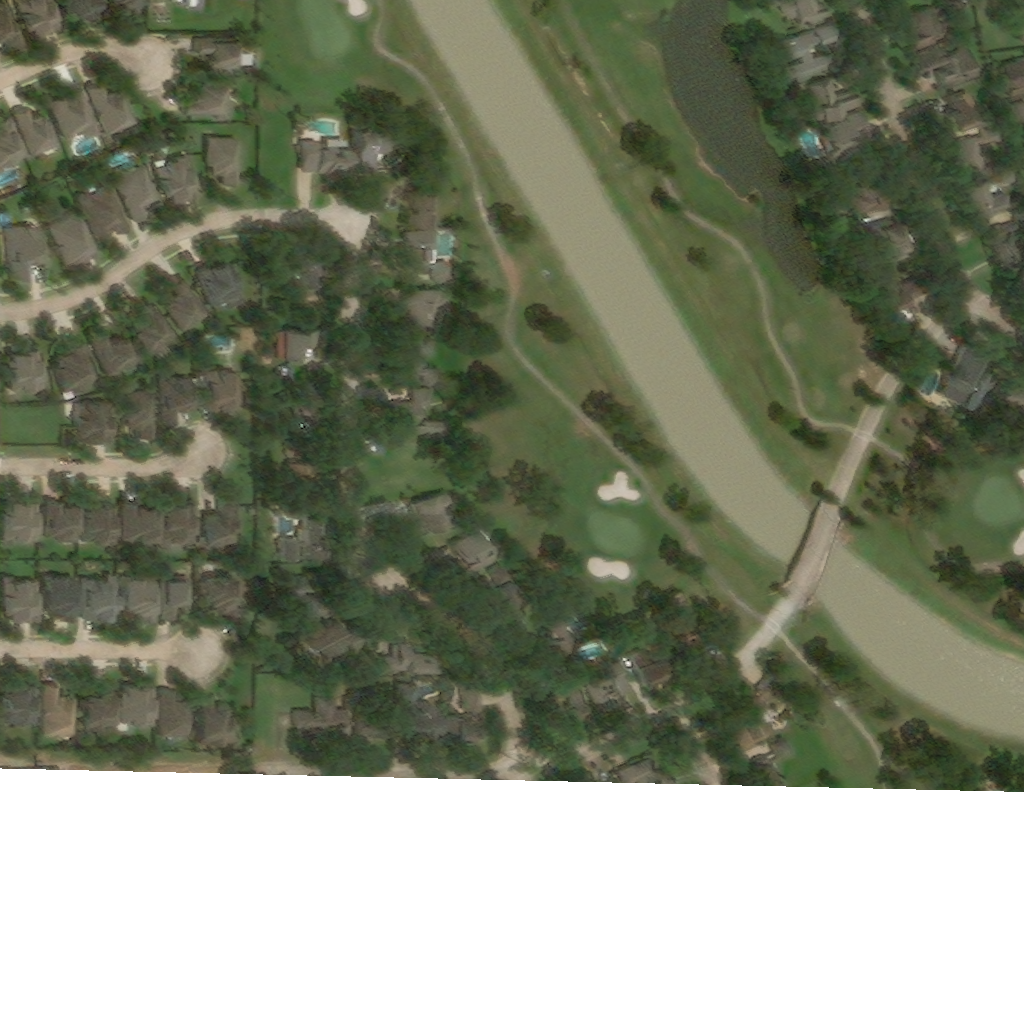no_damage: (727, 680, 783, 752), (826, 164, 894, 217), (940, 344, 997, 407), (963, 161, 1020, 222), (47, 206, 99, 269), (949, 123, 1004, 180), (48, 87, 102, 144), (193, 257, 247, 312), (115, 165, 165, 224), (399, 493, 456, 544), (821, 113, 879, 163), (917, 45, 979, 91), (307, 621, 368, 667), (79, 184, 130, 239), (403, 231, 453, 287), (870, 266, 929, 313), (391, 289, 452, 334), (774, 32, 826, 84), (54, 338, 96, 402), (88, 329, 142, 378), (88, 84, 136, 139), (129, 302, 176, 358), (296, 697, 353, 742), (280, 503, 321, 565), (807, 79, 862, 125), (199, 497, 240, 558), (166, 279, 212, 333), (15, 109, 62, 161), (548, 669, 590, 727), (356, 679, 398, 736), (397, 334, 440, 389), (454, 529, 504, 574), (372, 640, 435, 675), (935, 92, 981, 139), (43, 683, 79, 743), (5, 224, 42, 282), (283, 381, 319, 440), (110, 385, 156, 431), (584, 659, 631, 704), (197, 698, 238, 749), (289, 248, 320, 315), (987, 212, 1022, 271), (183, 83, 231, 126), (161, 499, 197, 556), (7, 348, 50, 395), (3, 499, 41, 552), (762, 0, 828, 30), (155, 155, 202, 197), (81, 574, 121, 623), (908, 8, 951, 53), (195, 38, 248, 74), (203, 367, 241, 417), (283, 578, 326, 622), (73, 399, 114, 445), (277, 322, 324, 362), (82, 499, 118, 551), (123, 574, 158, 627), (81, 680, 116, 732), (159, 689, 194, 741), (354, 124, 390, 174), (300, 142, 351, 177), (2, 681, 39, 729), (2, 576, 40, 622), (120, 682, 157, 729), (207, 138, 241, 189), (656, 591, 698, 632), (632, 650, 674, 690), (44, 576, 77, 625), (45, 496, 78, 545), (876, 217, 909, 265), (409, 185, 444, 230), (159, 376, 191, 425), (122, 500, 159, 542), (543, 608, 578, 651), (755, 737, 795, 774), (18, 0, 60, 35), (0, 115, 27, 169), (203, 573, 240, 612), (280, 459, 316, 499), (160, 574, 192, 618), (389, 388, 435, 415), (495, 578, 524, 618), (384, 418, 442, 436), (406, 701, 443, 726), (0, 0, 20, 43), (1001, 60, 1022, 99), (612, 633, 638, 663), (108, 0, 142, 22), (447, 715, 473, 742), (463, 685, 483, 714), (65, 0, 102, 15), (816, 25, 838, 49), (621, 759, 660, 771), (417, 164, 437, 186), (997, 379, 1020, 398), (947, 3, 968, 22), (400, 686, 423, 703), (287, 441, 303, 459), (1012, 101, 1022, 126), (257, 624, 268, 637), (242, 570, 252, 582), (188, 0, 196, 8), (174, 0, 182, 4)
